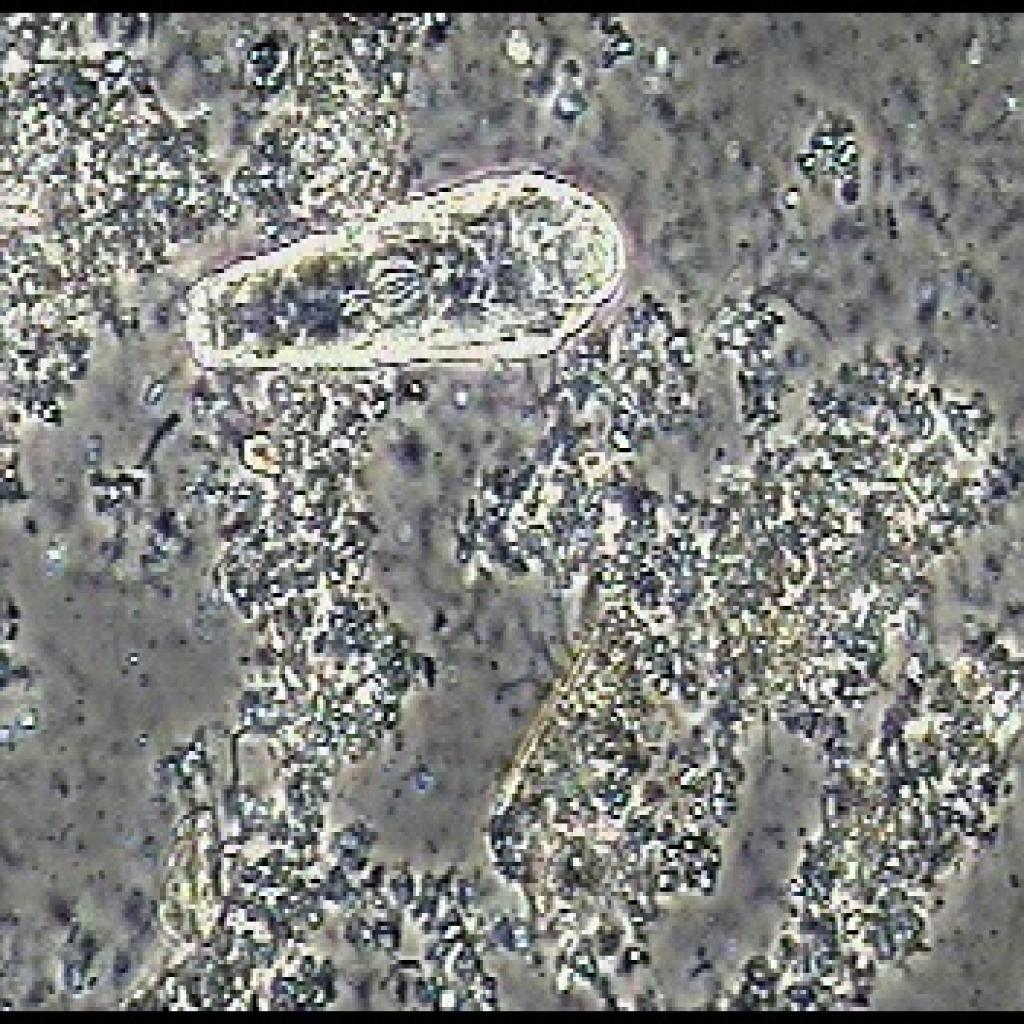Rotatoria: (161, 169, 662, 403)
